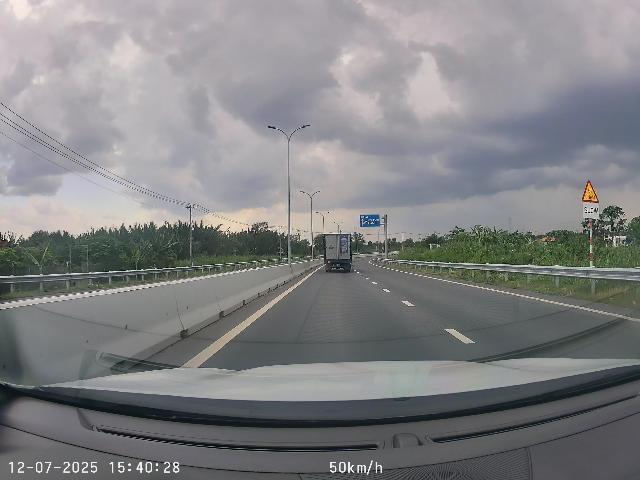245-di-cham: (581, 179, 599, 203)
